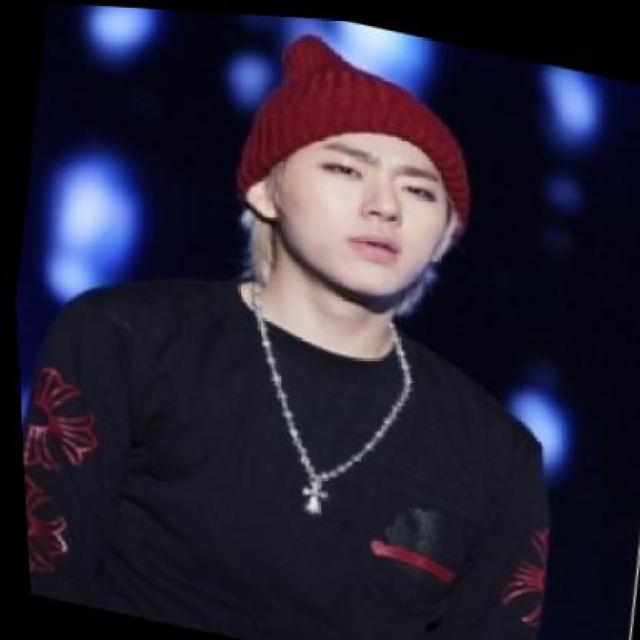hat: (226, 18, 491, 242)
